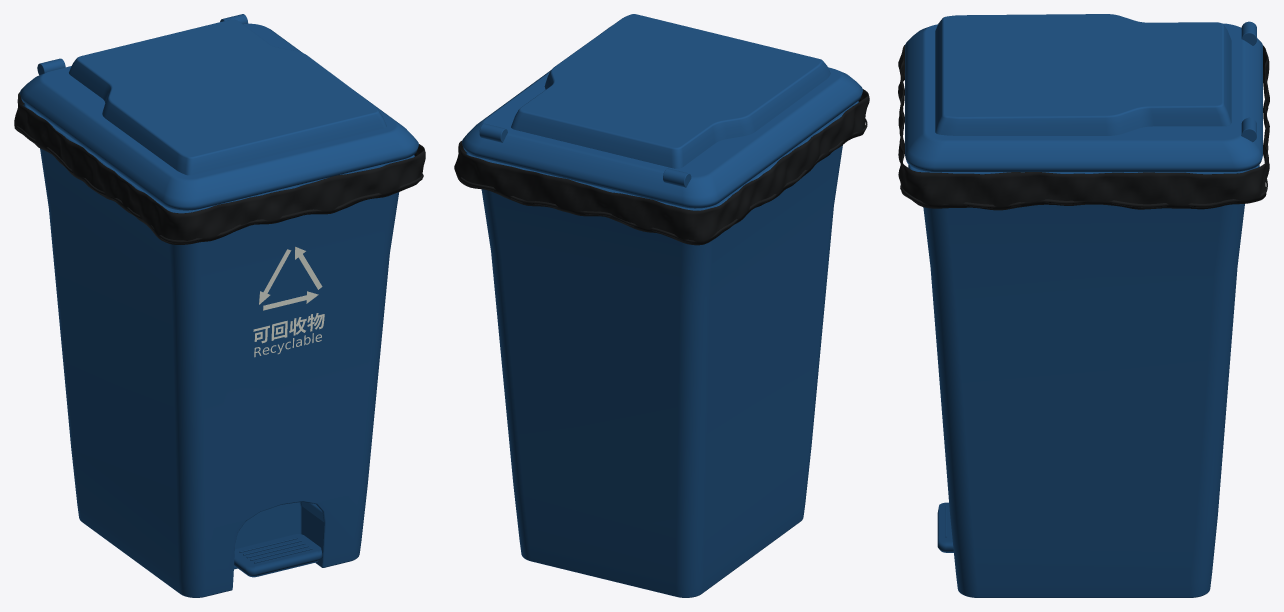
File: lod0_source.glb
3 renders of one model, left to right at view 1: azimuth 30°, elevation 25°; view 2: azimuth 150°, elevation 25°; view 3: azimuth 270°, elevation 25°, orthographic. The views are drawn at different scales.
Parts seen in each view (by area): view 1: Continuous tapered rounded bin shell, Lid raised deck with stepped rear shoulders, Shaped lid lip and sloping outer shoulder, Irregular black liner folded over the upper rim, Recessed rounded front foot pedal, Soft folded lower edge of the liner, Molded collar below the folded liner, Visible Chinese category print; view 2: Continuous tapered rounded bin shell, Lid raised deck with stepped rear shoulders, Shaped lid lip and sloping outer shoulder, Irregular black liner folded over the upper rim, Soft folded lower edge of the liner, Molded collar below the folded liner; view 3: Continuous tapered rounded bin shell, Lid raised deck with stepped rear shoulders, Shaped lid lip and sloping outer shoulder, Irregular black liner folded over the upper rim, Soft folded lower edge of the liner, Recessed rounded front foot pedal, Molded collar below the folded liner.
Part boxes in pixels (bbox=[...]): Continuous tapered rounded bin shell: bbox=[40, 148, 399, 597]; Lid raised deck with stepped rear shoulders: bbox=[69, 19, 386, 175]; Shaped lid lip and sloping outer shoulder: bbox=[20, 23, 418, 210]; Irregular black liner folded over the upper rim: bbox=[14, 92, 425, 244]; Recessed rounded front foot pedal: bbox=[234, 534, 322, 577]; Soft folded lower edge of the liner: bbox=[14, 125, 423, 243]; Molded collar below the folded liner: bbox=[23, 103, 414, 213]; Visible Chinese category print: bbox=[253, 313, 324, 343]; Continuous tapered rounded bin shell: bbox=[481, 145, 842, 597]; Lid raised deck with stepped rear shoulders: bbox=[511, 14, 830, 168]; Shaped lid lip and sloping outer shoulder: bbox=[462, 27, 862, 208]; Irregular black liner folded over the upper rim: bbox=[454, 89, 869, 245]; Soft folded lower edge of the liner: bbox=[459, 118, 867, 242]; Molded collar below the folded liner: bbox=[466, 101, 858, 210]; Continuous tapered rounded bin shell: bbox=[923, 204, 1244, 597]; Lid raised deck with stepped rear shoulders: bbox=[935, 14, 1231, 135]; Shaped lid lip and sloping outer shoulder: bbox=[905, 23, 1262, 171]; Irregular black liner folded over the upper rim: bbox=[898, 45, 1269, 210]; Soft folded lower edge of the liner: bbox=[899, 73, 1268, 208]; Recessed rounded front foot pedal: bbox=[937, 502, 953, 552]; Molded collar below the folded liner: bbox=[908, 164, 1259, 174].
Bounding box in the file's own units: 0.5035 × 0.824 × 0.5693.
